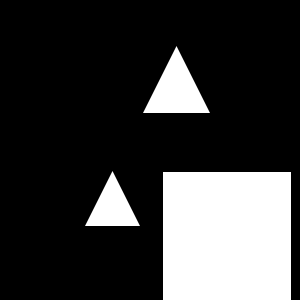circle: (163, 172, 291, 300)
triangle: (143, 46, 210, 113), (85, 171, 140, 226)
